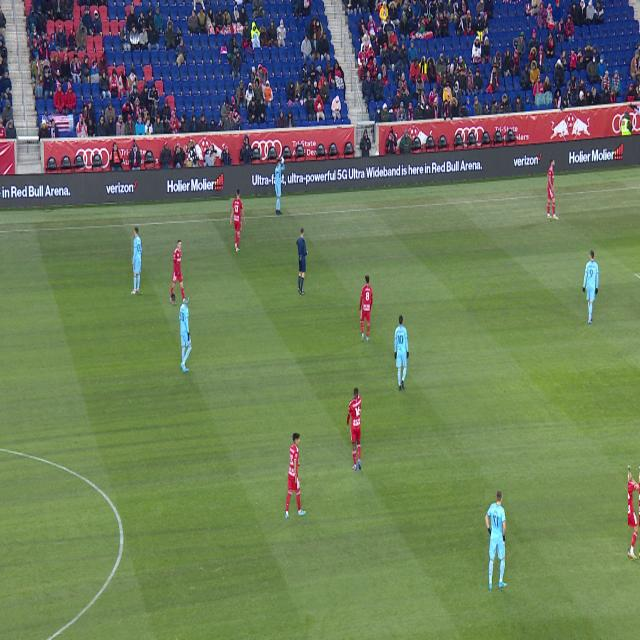player: (485, 490, 507, 590), (285, 433, 306, 519), (583, 250, 599, 324), (347, 388, 361, 470), (394, 315, 409, 391), (628, 465, 640, 559), (171, 240, 188, 304), (179, 294, 192, 373), (230, 189, 245, 252), (359, 275, 373, 341), (131, 227, 142, 294), (547, 159, 559, 220)
referee: (296, 228, 308, 295)
